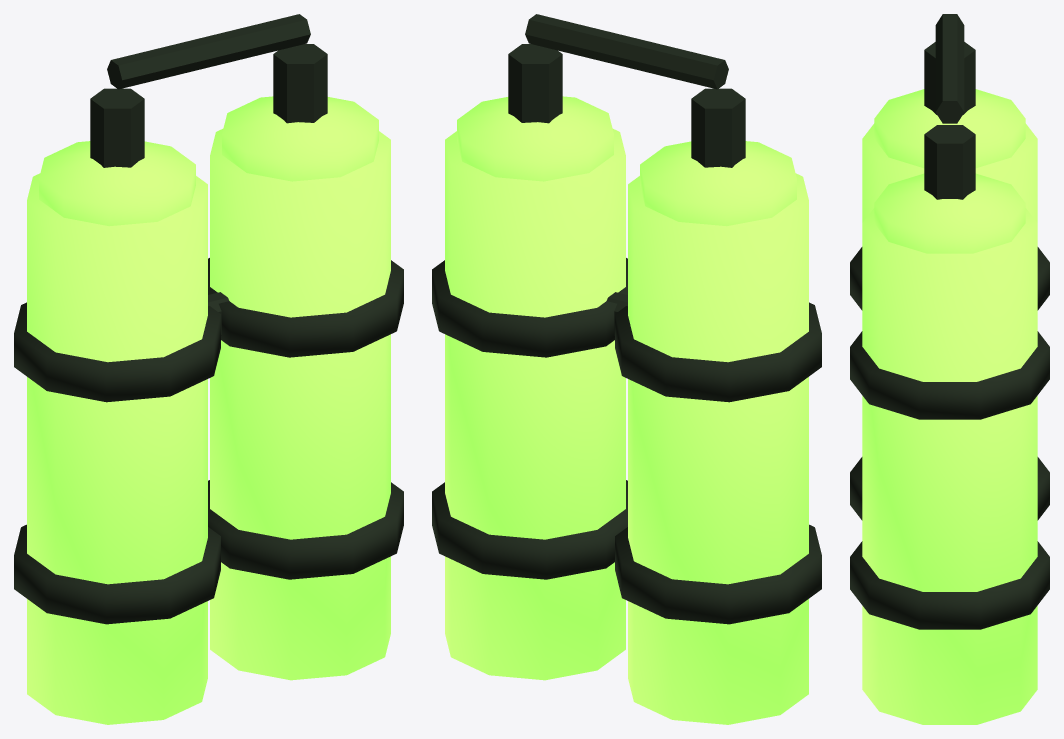
The model's file is spore_tank.glb.
The picture shows the model from 3 angles, left to right: view 1: azimuth 30°, elevation 25°; view 2: azimuth 150°, elevation 25°; view 3: azimuth 270°, elevation 25°; orthographic projection. The views are drawn at different scales.
Visible parts, largest first — view 1: part.spore_tank; view 2: part.spore_tank; view 3: part.spore_tank.
Boxes of the visible parts, bbox=[...] form: part.spore_tank: bbox=[14, 14, 403, 724]; part.spore_tank: bbox=[432, 14, 821, 724]; part.spore_tank: bbox=[850, 14, 1049, 724].
Size of the model in its own units: 0.3785 by 0.6321 by 0.194.
